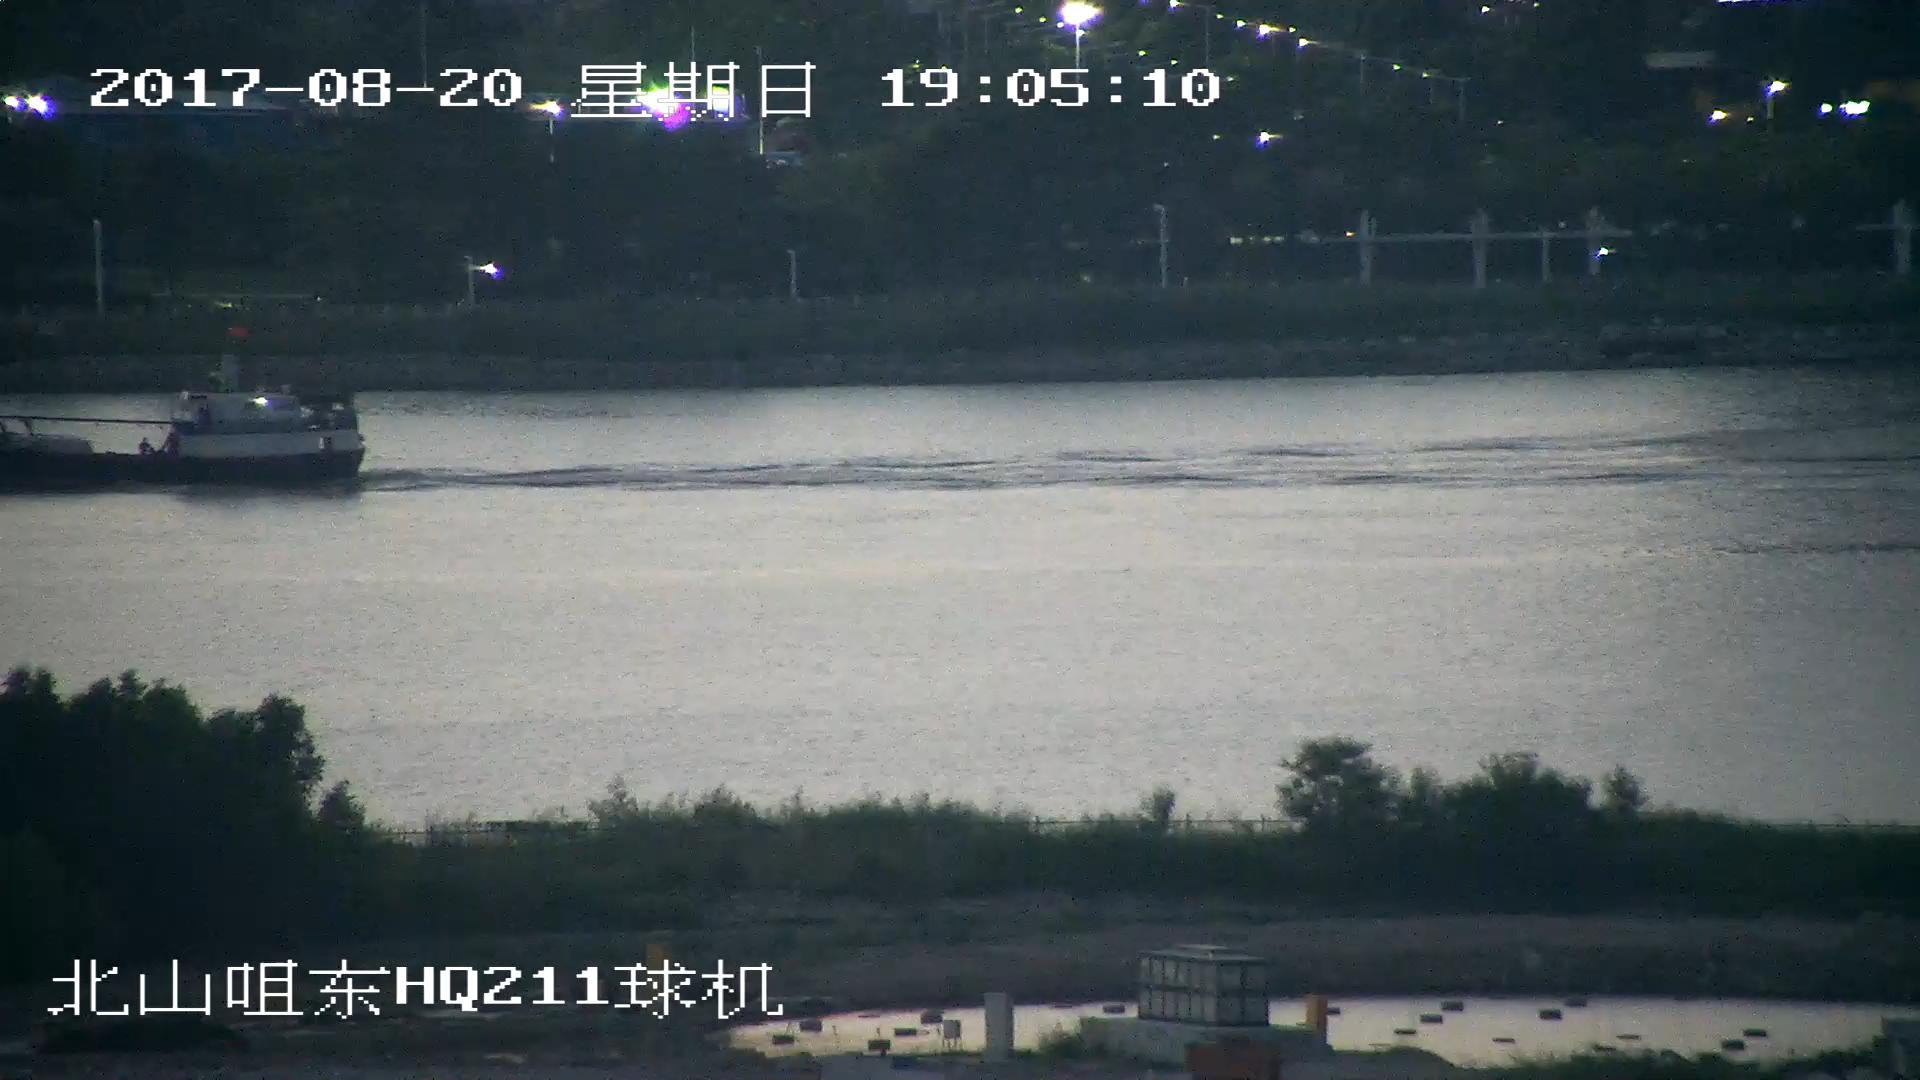fishing boat: (1, 355, 366, 489)
